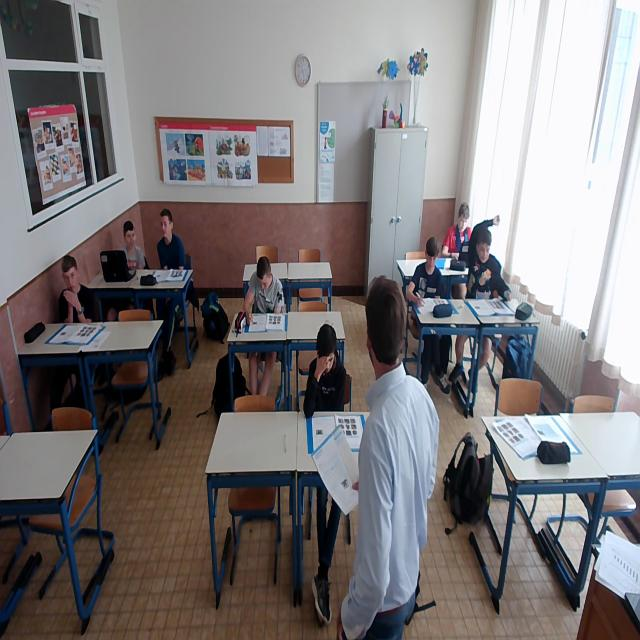Hand Rising: (470, 214, 513, 316)
